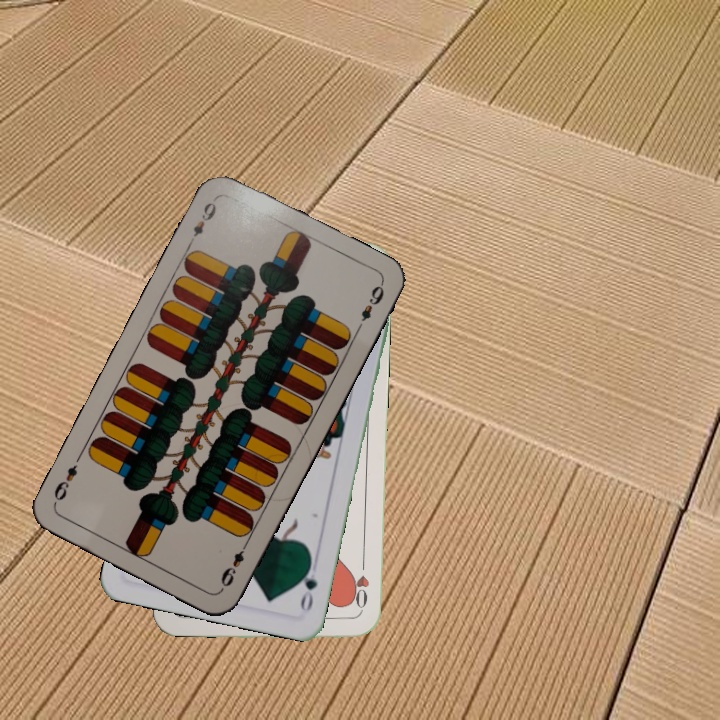E9: (184, 195, 220, 248), (216, 538, 251, 592)
GO: (296, 555, 320, 614)
HO: (346, 556, 372, 615)
